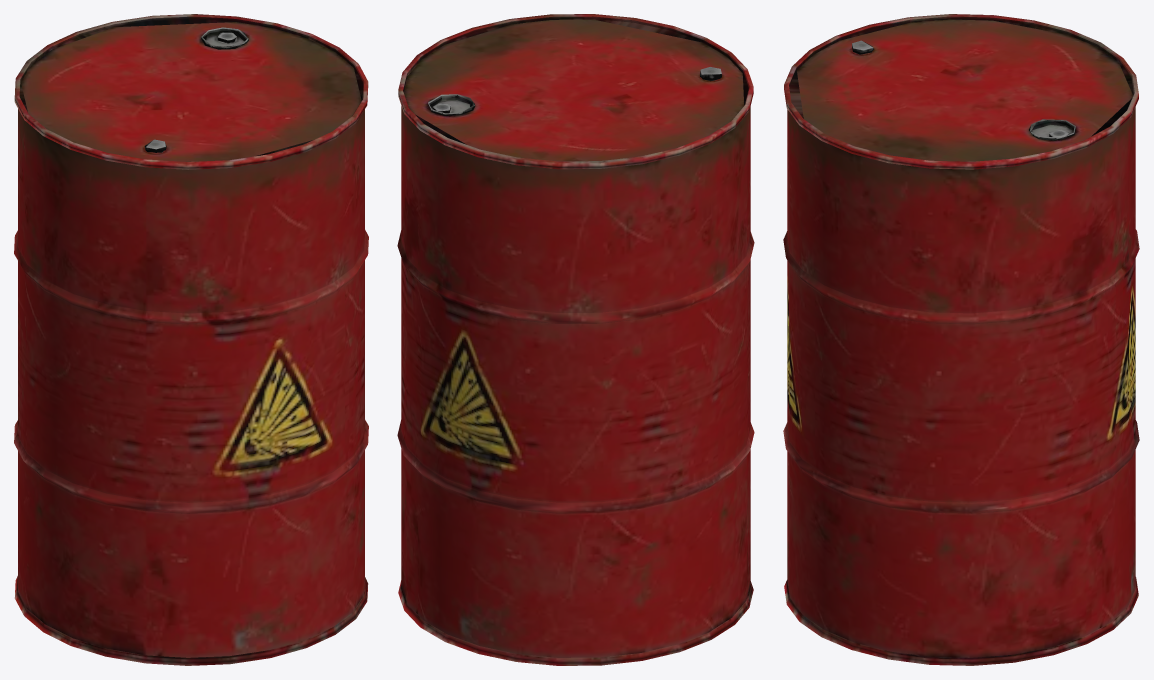
File: barrel.glb
3 views of the same model, side by side, from view 1: azimuth 30°, elevation 25°; view 2: azimuth 150°, elevation 25°; view 3: azimuth 270°, elevation 25° (orthographic).
Parts seen in each view (by area): view 1: Barrel_01; view 2: Barrel_01; view 3: Barrel_01.
Boxes of the visible parts, x1,y1,x2,y2 form: Barrel_01: (14,14,368,665); Barrel_01: (397,14,754,665); Barrel_01: (783,14,1139,665).
Bounding box in the file's own units: 0.5627 × 0.8789 × 0.5627.
1 material, 1 textured.
